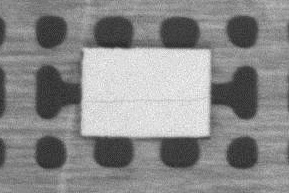DIE_CRACK: (84, 97, 209, 103)
